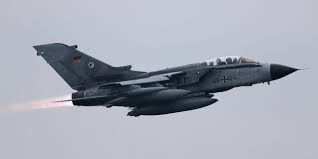maybay_muctieu: (26, 42, 301, 121)
